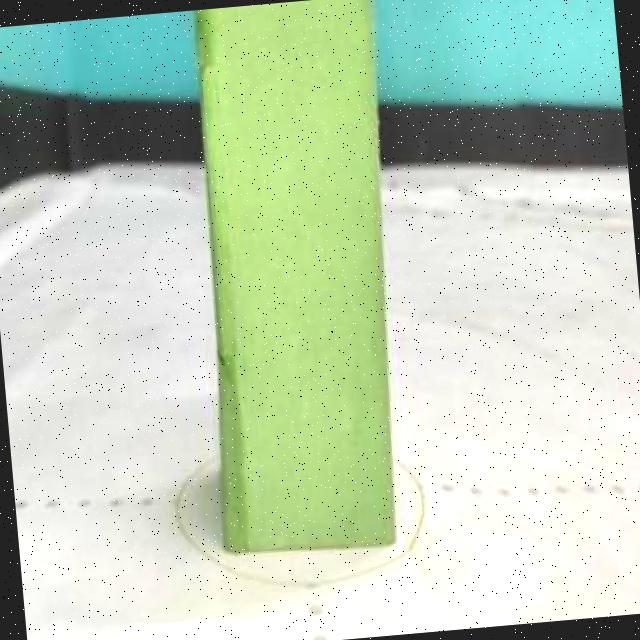greenbox: (177, 0, 420, 558)
